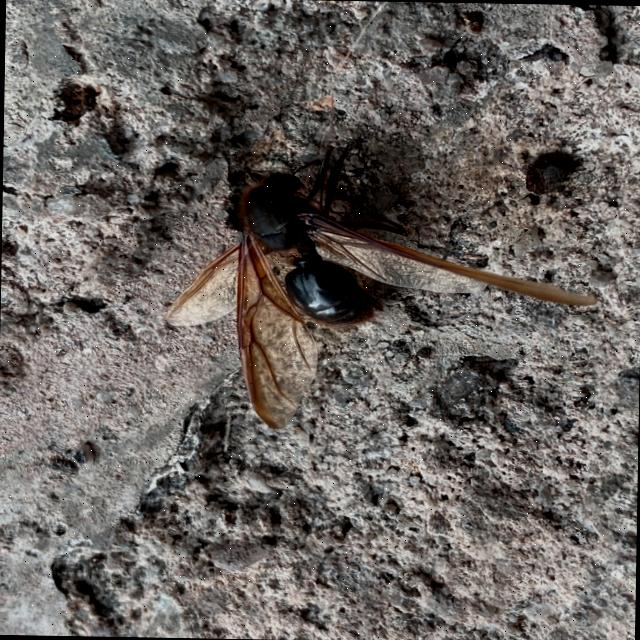Dead-Male-Alate: (162, 140, 600, 434)
